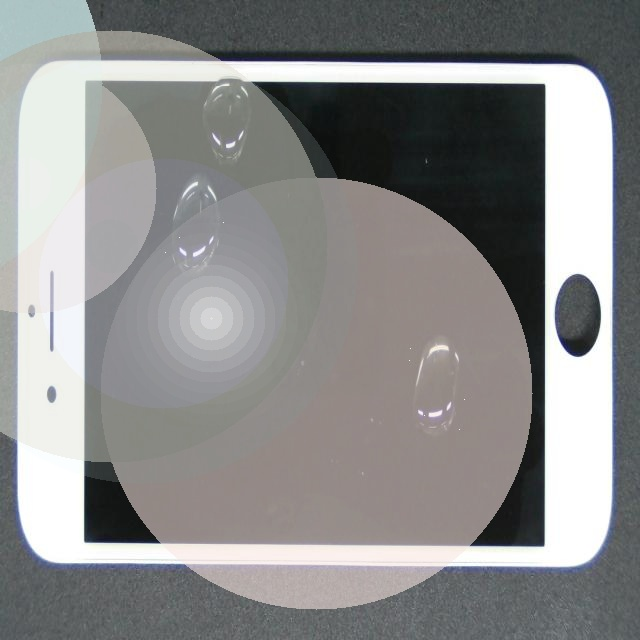oil: (242, 189, 640, 510), (81, 59, 326, 236), (109, 57, 269, 287)
